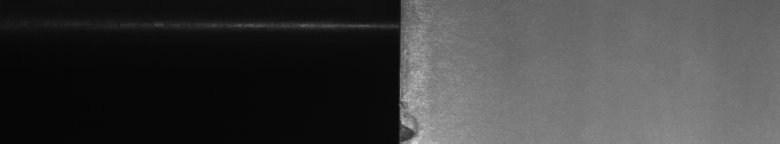hb: (408, 114, 424, 136)
